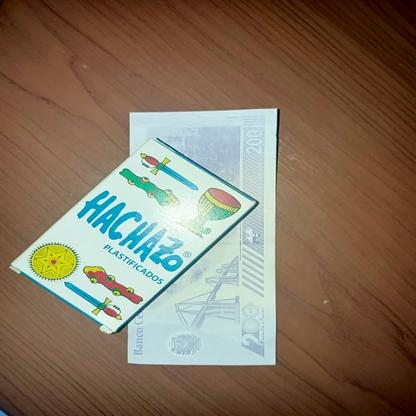two_hundred-back-vef: (126, 109, 278, 364)
